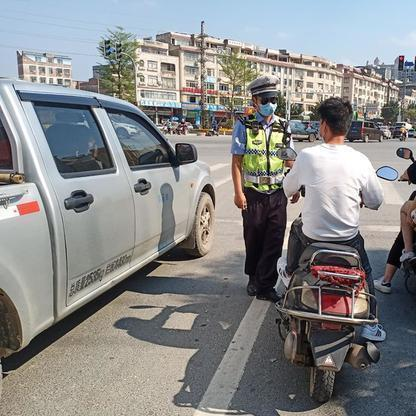target: (279, 98, 387, 402)
